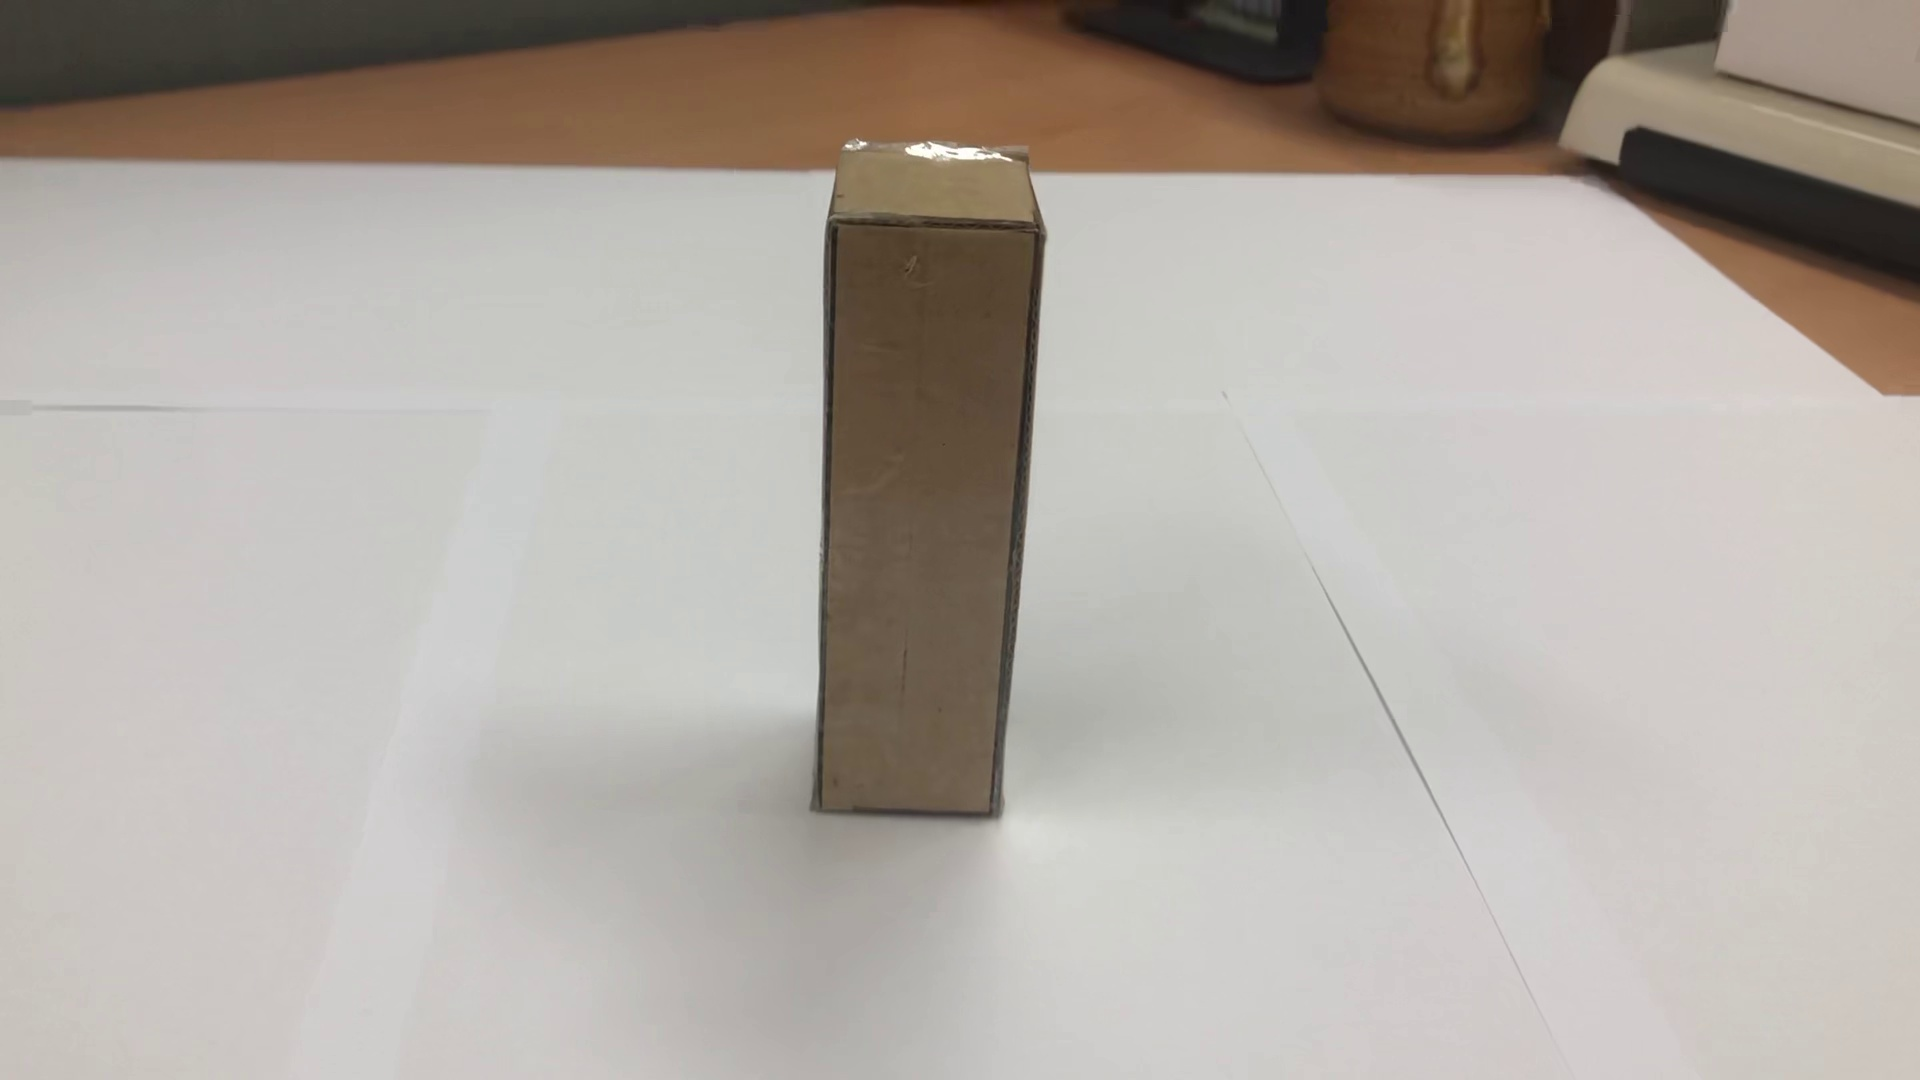box: (760, 65, 1109, 889)
